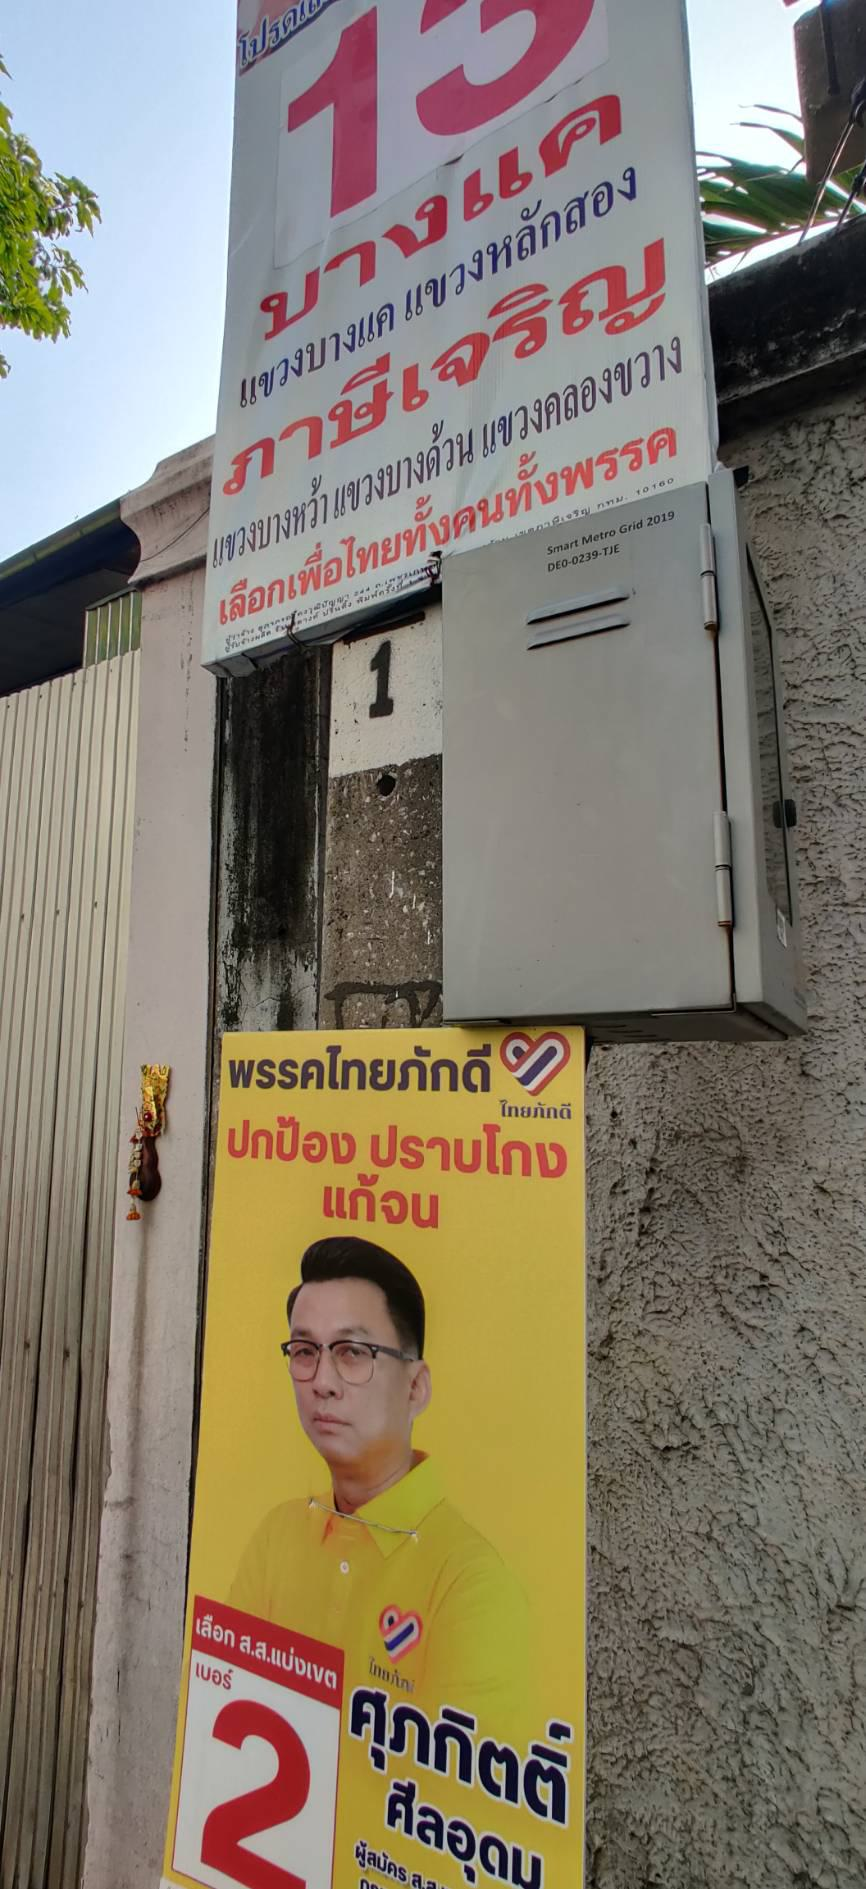Banner: (155, 1026, 593, 1889)
